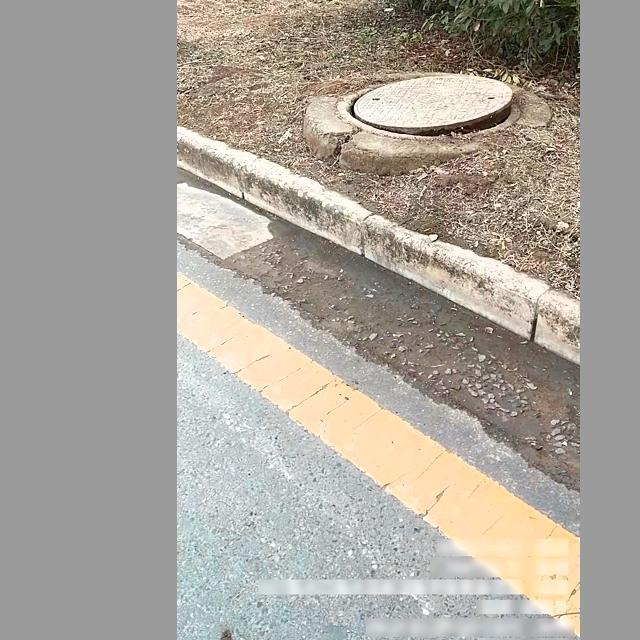uncovered: (339, 72, 528, 142)
